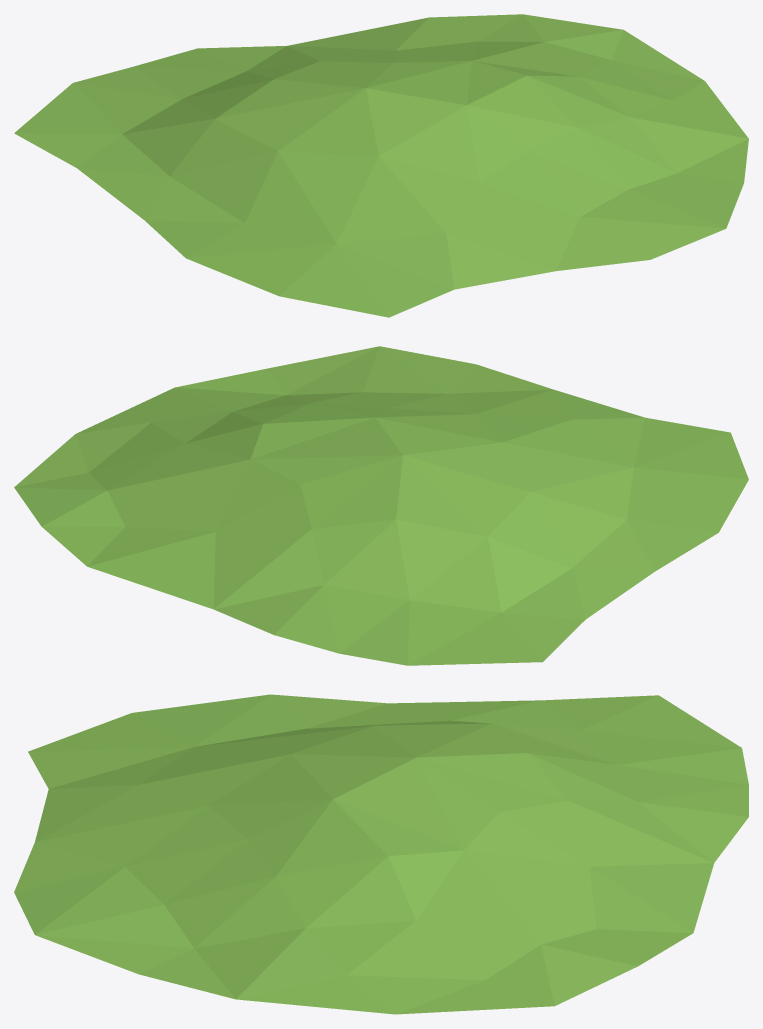
The model's file is MT_Mountain_S_a_03.fbx.
The picture shows the model from 3 angles, top to bottom: view 1: azimuth 30°, elevation 25°; view 2: azimuth 150°, elevation 25°; view 3: azimuth 270°, elevation 25°; orthographic projection. The views are drawn at different scales.
Visible parts, largest first — view 1: MT_Mountain_S_a_03; view 2: MT_Mountain_S_a_03; view 3: MT_Mountain_S_a_03.
Part boxes in pixels (x1,y1,x2,y2): MT_Mountain_S_a_03: (14,14,748,317); MT_Mountain_S_a_03: (14,346,748,665); MT_Mountain_S_a_03: (14,694,748,1014).
Bounding box in the file's own units: 2109 × 236 × 2070.
